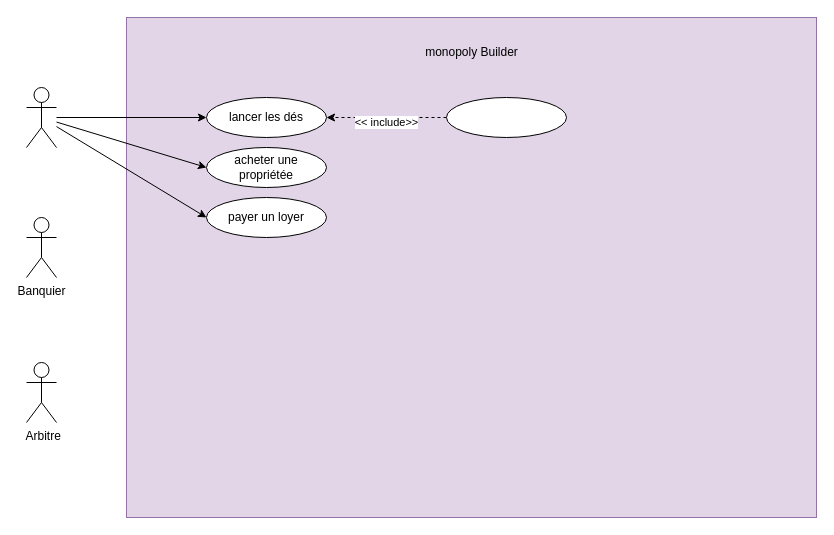
Image size: 834x535. Some labels were removed from this diagram. The shapes that lost their labels are listed below. From the top down, each one's box as (x1, y1, x2, y2) in pixels, then its label:
(26, 86, 56, 148): Joueur
(446, 96, 566, 138): se déplacer
